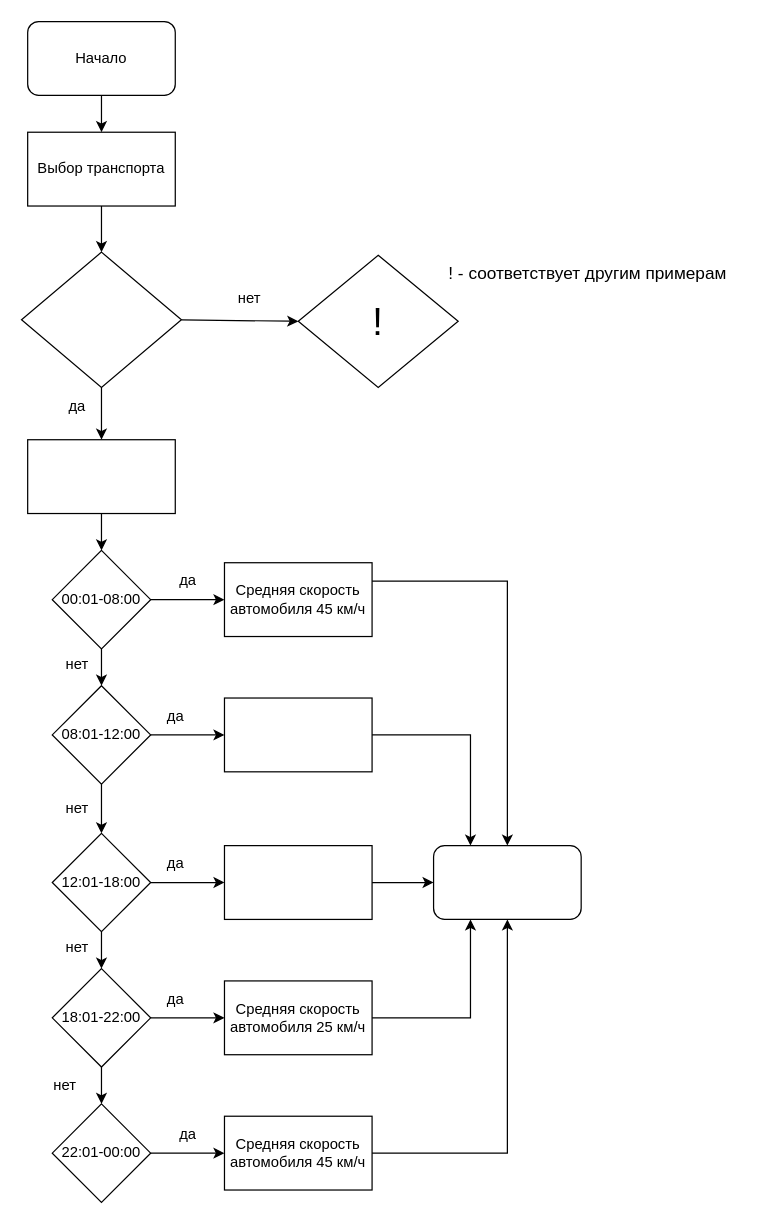
Some shapes in this 763 by 1224 pixel diagram are drawn without their labels. The shapes that lost their labels are listed below. From the top down, each one's centre as x and y in pixels, then its label:
At pixel 100 319: "Собственный автомобиль?".
At pixel 100 476: "Время начала поездки Х".
At pixel 297 734: "Средняя скорость автомобиля 30 км/ч".
At pixel 297 881: "Средняя скорость автомобиля 40 км/ч".
At pixel 506 881: "Конец".
